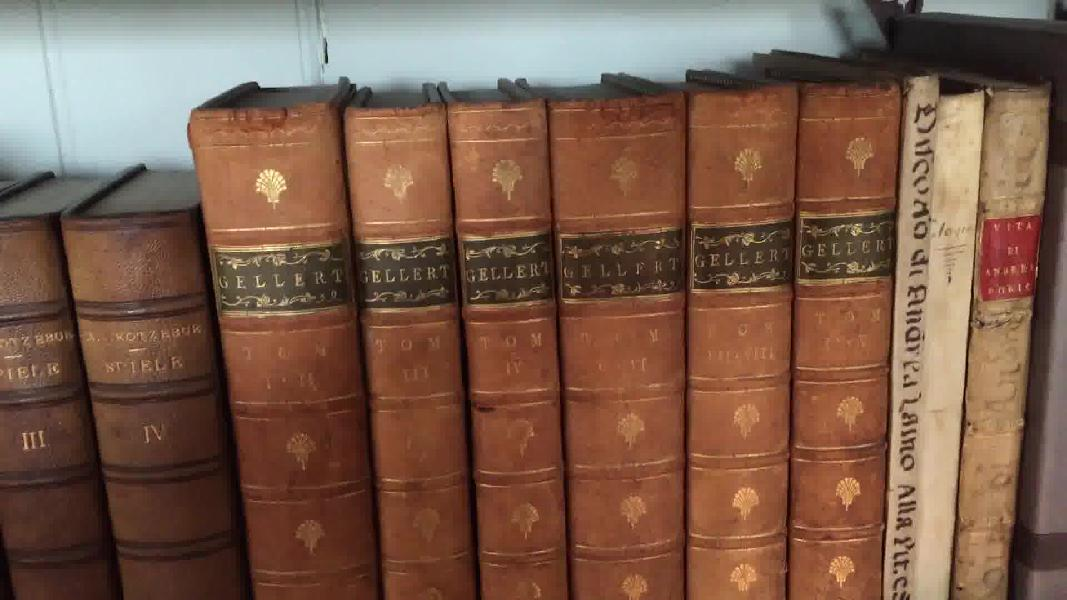Aa6-18_23: (170, 81, 905, 600)
Aa6-24: (892, 47, 939, 600)
Aa6-25: (919, 50, 982, 600)
Aa6-26: (952, 24, 1033, 593)
